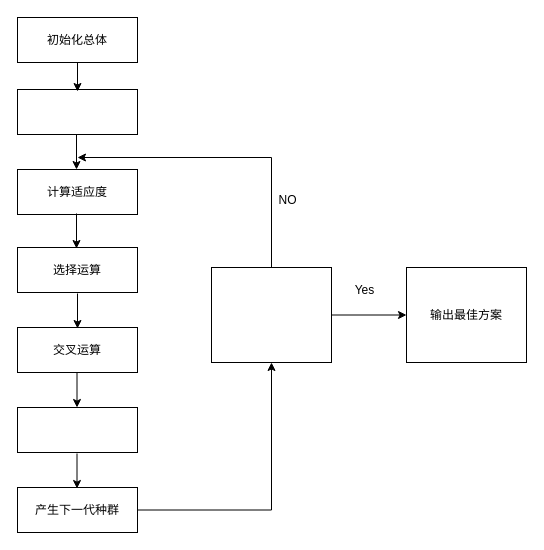
Some shapes in this 544 by 550 pixel diagram are drawn without their labels. Here are the shapes that lost their labels. From the top down, the centre of each, then its label:
(x=77, y=111): 参数编码
(x=271, y=314): 是否达到终止标准
(x=77, y=429): 变异运算
